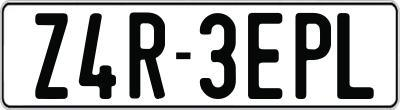3: (199, 11, 239, 102)
4: (78, 12, 116, 98)
E: (246, 10, 280, 102)
L: (336, 12, 377, 102)
P: (294, 11, 332, 99)
R: (126, 12, 166, 101)
Z: (32, 10, 66, 101)
